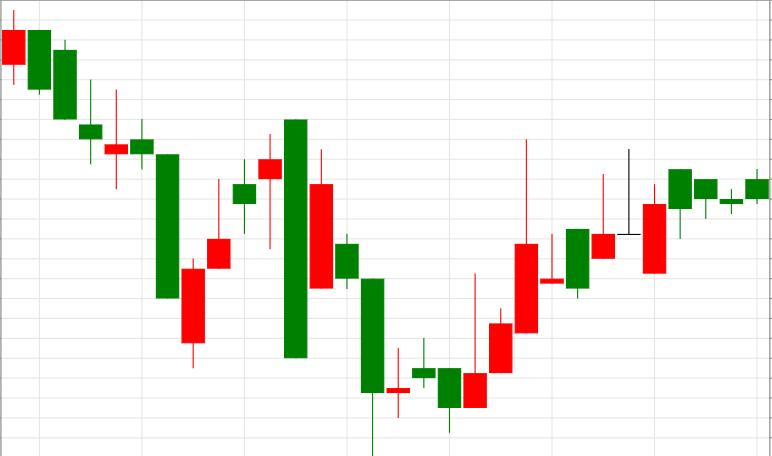bearish_engulfing_fall: (181, 119, 308, 369)
